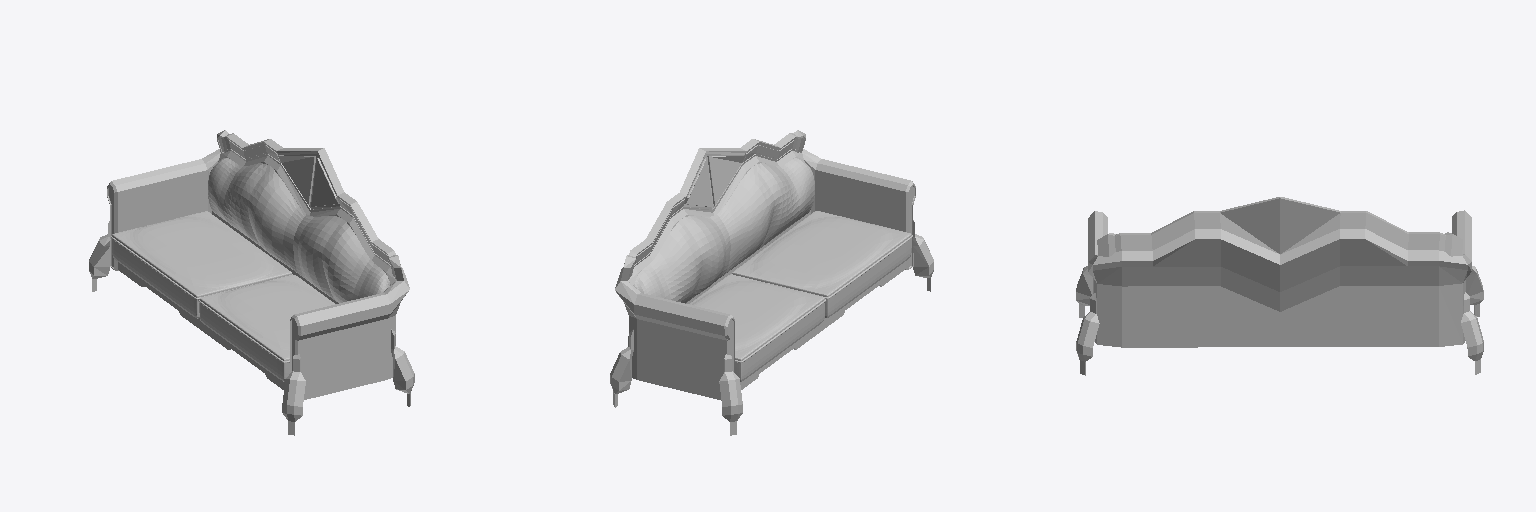
File: Couch.obj
3 views of the same model, side by side, from view 1: azimuth 30°, elevation 25°; view 2: azimuth 150°, elevation 25°; view 3: azimuth 270°, elevation 25° (orthographic).
Parts seen in each view (by area): view 1: Cube.046_Cube.037; view 2: Cube.046_Cube.037; view 3: Cube.046_Cube.037.
Part boxes in pixels (left/top/right/bottom): Cube.046_Cube.037: left=89, top=130, right=414, bottom=435; Cube.046_Cube.037: left=610, top=130, right=933, bottom=435; Cube.046_Cube.037: left=1076, top=197, right=1483, bottom=375.
Size of the model in its own units: 1.87 by 2.37 by 4.81.